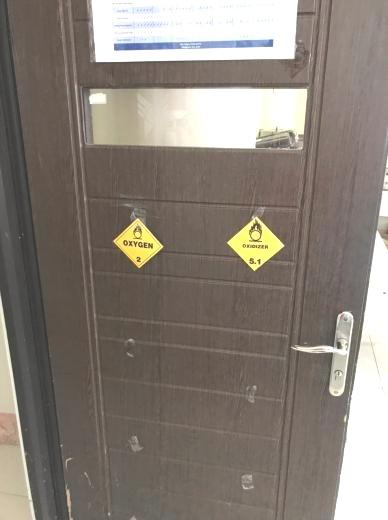oxidizer: (226, 217, 287, 273), (114, 217, 166, 269)
